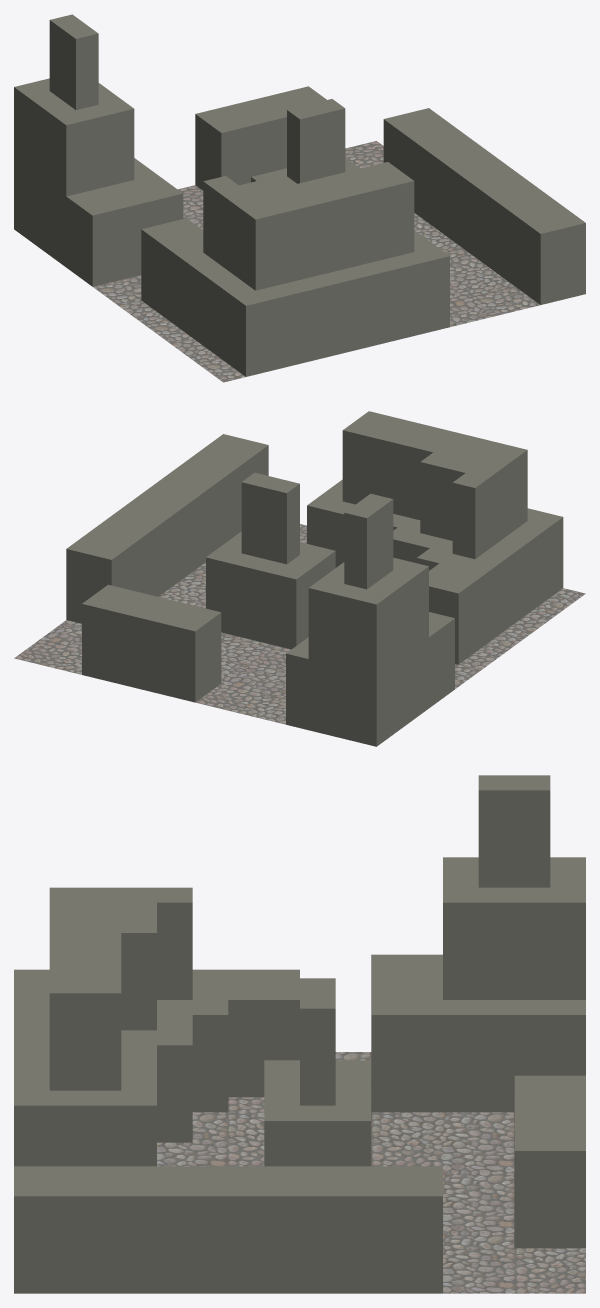
The model's file is tile1.fbx.
3 views of the same model, one above another, from view 1: azimuth 30°, elevation 25°; view 2: azimuth 150°, elevation 25°; view 3: azimuth 270°, elevation 25° (orthographic). The views are drawn at different scales.
Parts seen in each view (by area): view 1: Tile1; view 2: Tile1; view 3: Tile1.
Boxes of the visible parts, bbox=[...] form: Tile1: bbox=[14, 14, 585, 382]; Tile1: bbox=[14, 411, 585, 746]; Tile1: bbox=[14, 775, 585, 1293].
Bounding box in the file's own units: 1600 × 900 × 1600.
